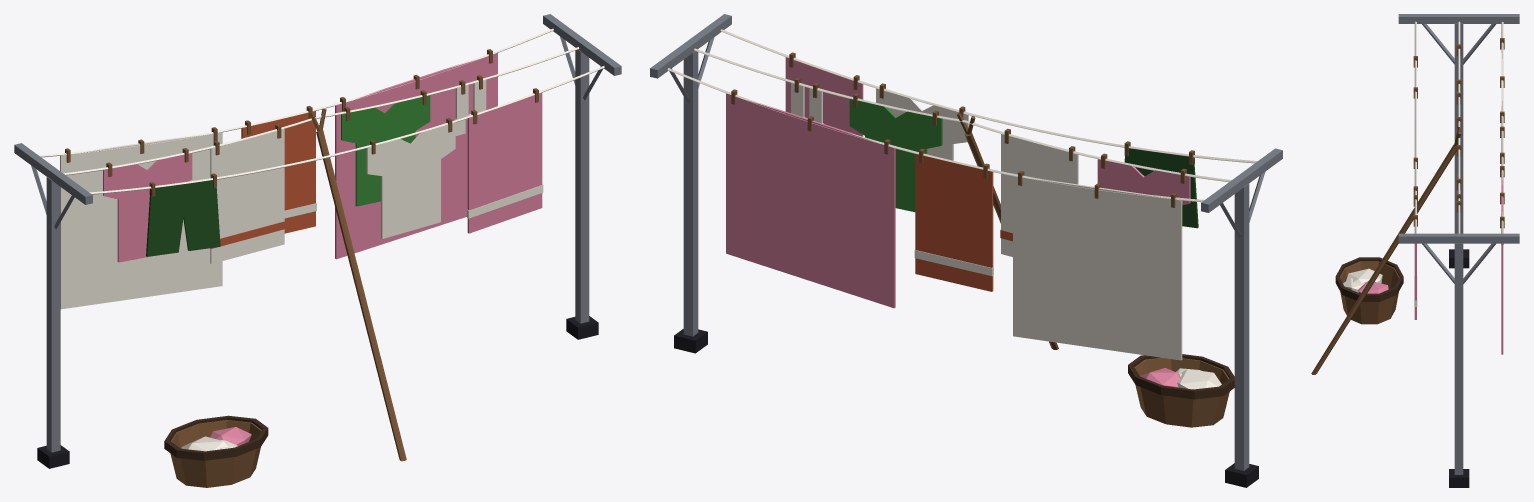
3 views of the same model, side by side, from view 1: azimuth 30°, elevation 25°; view 2: azimuth 150°, elevation 25°; view 3: azimuth 270°, elevation 25° (orthographic). The views are drawn at different scales.
Visible parts, largest first — view 1: laundry-warm-white, laundry-flower-pinks, posts, laundry-grass-green-dark, laundry-terracotta, laundry-grass-green, lines, basket-body, prop, basket-rim, pegs, sockets; view 2: laundry-warm-white, laundry-flower-pinks, posts, laundry-terracotta, laundry-grass-green, lines, basket-body, pegs, laundry-grass-green-dark, basket-rim, sockets, basket-laundry-warm-white (+1 smaller); view 3: posts, basket-body, prop, lines, pegs, basket-rim, laundry-flower-pinks, sockets, basket-laundry-warm-white, laundry-warm-white.
Part boxes in pixels (x1=…): laundry-warm-white: x1=60, y1=80, x2=543, y2=309; laundry-flower-pinks: x1=103, y1=53, x2=542, y2=262; posts: x1=14, y1=14, x2=621, y2=452; laundry-grass-green-dark: x1=146, y1=180, x2=220, y2=256; laundry-terracotta: x1=210, y1=111, x2=315, y2=248; laundry-grass-green: x1=341, y1=95, x2=430, y2=206; lines: x1=38, y1=28, x2=604, y2=194; basket-body: x1=170, y1=420, x2=261, y2=487; prop: x1=309, y1=108, x2=406, y2=461; basket-rim: x1=164, y1=415, x2=268, y2=460; pegs: x1=65, y1=49, x2=538, y2=196; sockets: x1=37, y1=316, x2=598, y2=468; laundry-warm-white: x1=791, y1=82, x2=1182, y2=360; laundry-flower-pinks: x1=726, y1=57, x2=1190, y2=308; posts: x1=650, y1=14, x2=1282, y2=470; laundry-terracotta: x1=915, y1=154, x2=1012, y2=291; laundry-grass-green: x1=849, y1=98, x2=942, y2=212; lines: x1=667, y1=29, x2=1257, y2=202; basket-body: x1=1134, y1=357, x2=1229, y2=427; pegs: x1=731, y1=52, x2=1194, y2=207; laundry-grass-green-dark: x1=1124, y1=148, x2=1198, y2=228; basket-rim: x1=1128, y1=354, x2=1234, y2=399; sockets: x1=674, y1=329, x2=1258, y2=487; basket-laundry-warm-white: x1=1176, y1=368, x2=1221, y2=389; posts: x1=1398, y1=14, x2=1519, y2=474; basket-body: x1=1339, y1=261, x2=1399, y2=324; prop: x1=1311, y1=127, x2=1461, y2=374; lines: x1=1414, y1=21, x2=1503, y2=233; pegs: x1=1413, y1=38, x2=1504, y2=228; basket-rim: x1=1335, y1=257, x2=1403, y2=301; laundry-flower-pinks: x1=1414, y1=174, x2=1503, y2=354; sockets: x1=1449, y1=249, x2=1469, y2=487; basket-laundry-warm-white: x1=1343, y1=268, x2=1382, y2=292; laundry-warm-white: x1=1414, y1=48, x2=1503, y2=306.
Bounding box in the file's own units: 3.74 × 1.9 × 1.44.
